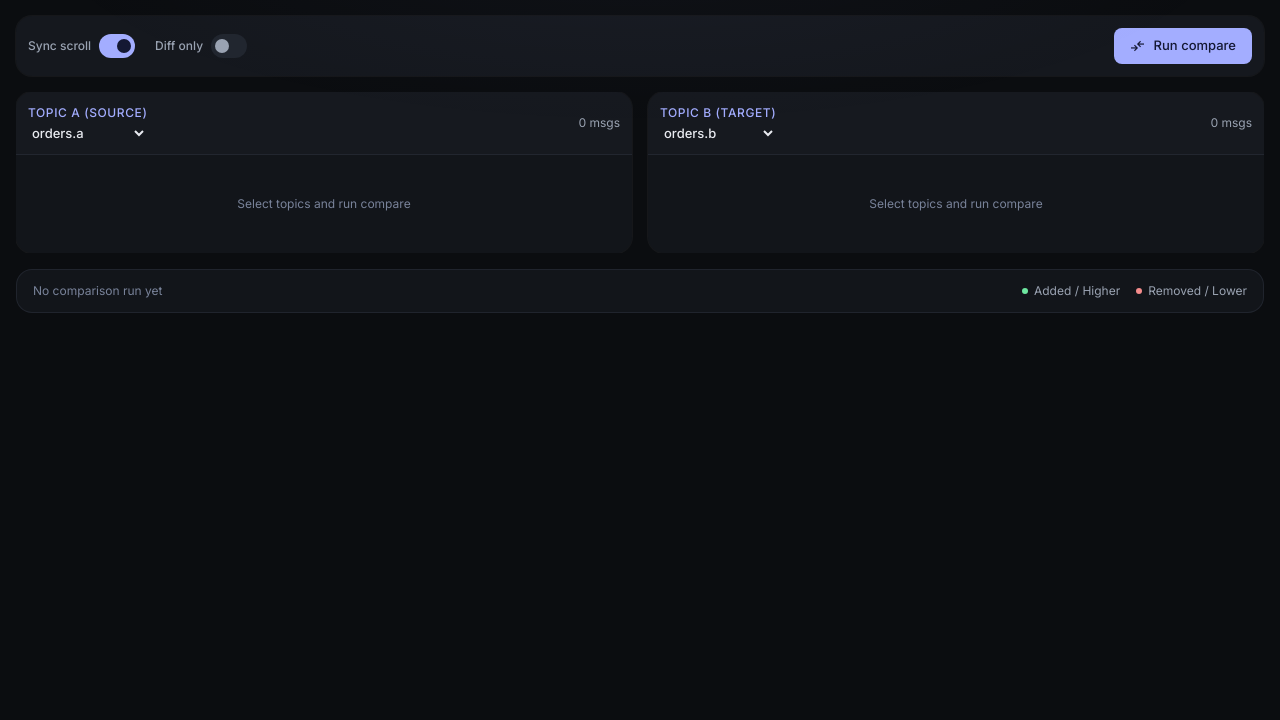
Test case: Compare › renders record objects without crashing, and shows their coordinates
This screenshot has width=1280, height=720.
Expected: the dropdown named "Topic A" is shown, [28,124,148,142]
Click the button "Run compare" at coordinates (1183, 46), box [1114,28,1252,64]
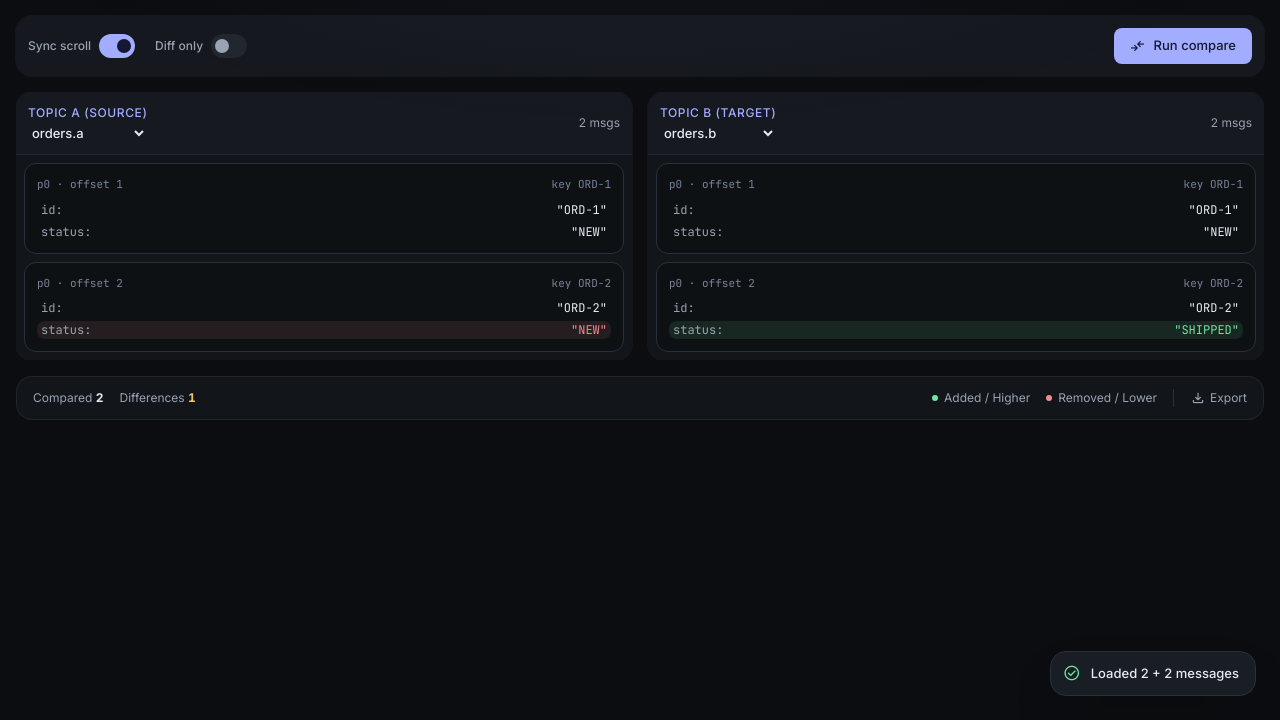
Result: the text "p0 · offset 1" is shown 2 times at [37,176,123,192]; [669,176,755,192]
Result: the 1st text "status:" is shown at [41,222,91,240]
